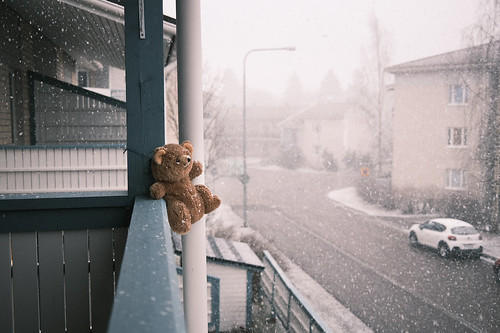building: (1, 1, 203, 317), (387, 35, 500, 213)
car: (405, 212, 488, 264)
light pole: (240, 40, 295, 234)
street: (242, 183, 495, 333)
stuffed animal: (140, 140, 223, 236)
